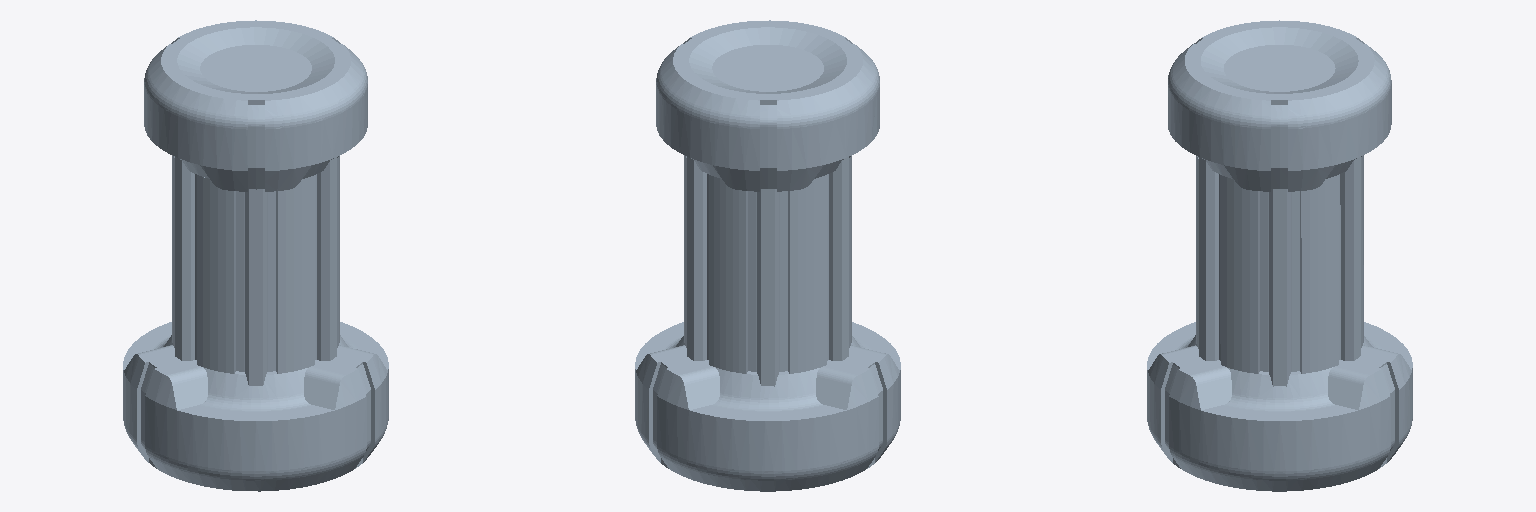
robot.urdf — energy:
<?xml version='1.0' encoding='utf-8'?>
<robot name="energy">
  <!--Standalone rigid object; not a calibrated gripper TCP. Units: m.-->
  <link name="energy_link">
    <visual name="energy_visual">
      <origin xyz="-0.0007342456 -0.0012666311 -0.0750000000" rpy="0 0 0" />
      <geometry>
        <mesh filename="energy.stl" scale="0.001 0.001 0.001" />
      </geometry>
      <material name="energy_silver">
        <color rgba="0.70 0.76 0.82 1" />
      </material>
    </visual>
    <collision name="wide_end">
      <origin xyz="0.0000473802 0.0000455790 -0.0550447090" rpy="0 0 0" />
      <geometry>
        <cylinder radius="0.0477514982" length="0.0404894179" />
      </geometry>
    </collision>
    <collision name="waist">
      <origin xyz="0.0000000000 0.0000000000 0.0000000000" rpy="0 0 0" />
      <geometry>
        <box size="0.0644000768 0.0604303774 0.0704000000" />
      </geometry>
    </collision>
    <collision name="small_end">
      <origin xyz="-0.0000563662 -0.0000715704 0.0549942703" rpy="0 0 0" />
      <geometry>
        <cylinder radius="0.0402587950" length="0.0403885406" />
      </geometry>
    </collision>
  </link>
</robot>

--- Facts derived from the render (not from the file) ---
Views: 3 orthographic renders of the robot side by side, from view 1: azimuth 30°, elevation 25°; view 2: azimuth 150°, elevation 25°; view 3: azimuth 270°, elevation 25°.
Model energy with 1 links and 0 joints (none), rooted at energy_link, posed all joints at 0.
Visible links, largest first — view 1: energy_link; view 2: energy_link; view 3: energy_link.
Boxes of the visible links, x1,y1,x2,y2 form: energy_link: (123, 20, 388, 491); energy_link: (635, 20, 900, 491); energy_link: (1147, 20, 1412, 491).
Bounding box of the posed robot: 0.0949 × 0.095 × 0.1501 m (x, y, z).
1 mesh visuals loaded from 1 distinct referenced files (1 binary STL).
